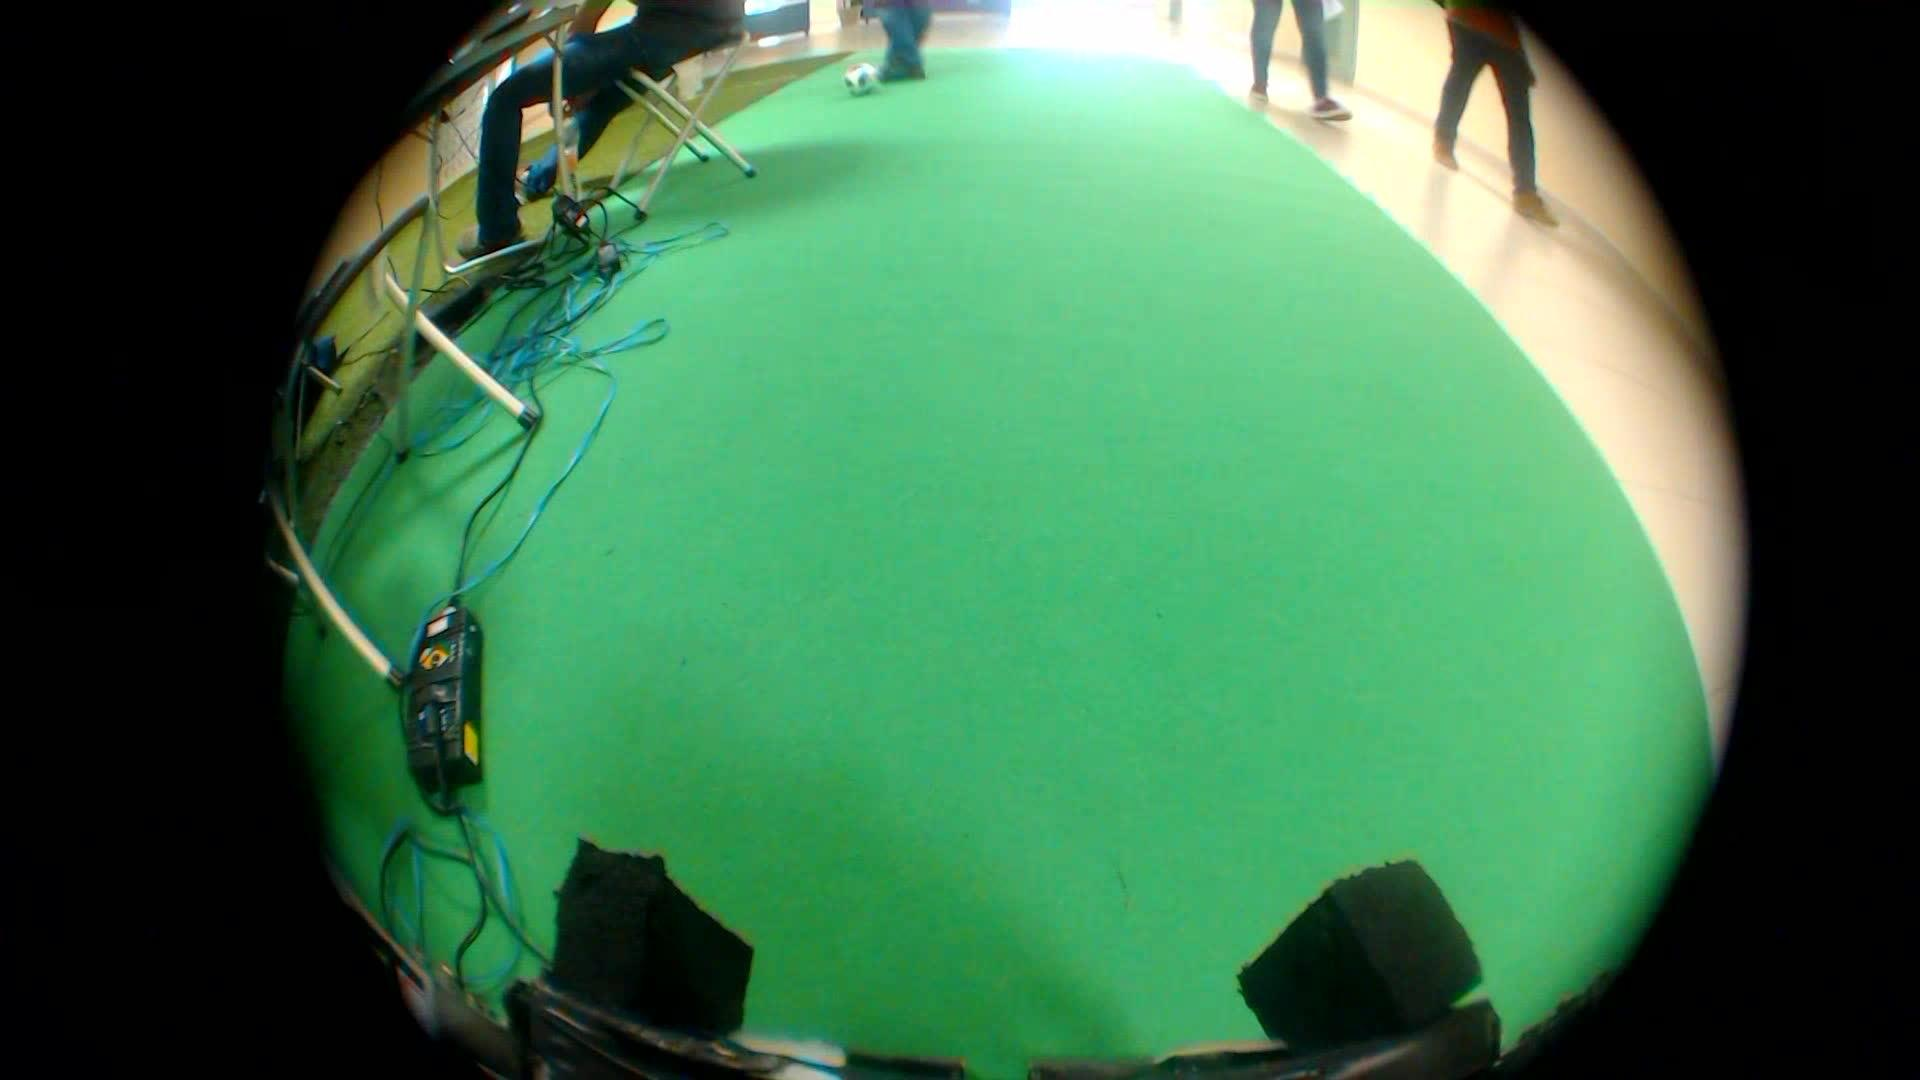ball: (833, 61, 877, 102)
